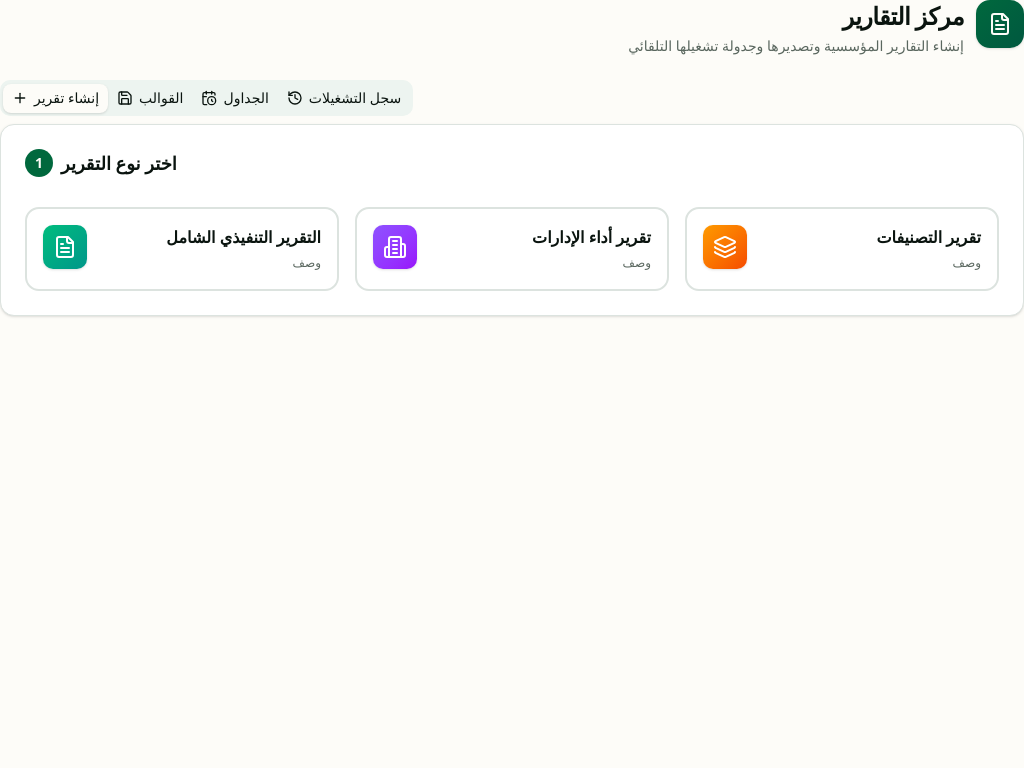
Test: ReportsCenter › uses explicit page metadata, preserves every section, and respects preview order
Click the heading "التقرير التنفيذي الشامل": (244, 237) [166,226,321,248]
(page scrolled)
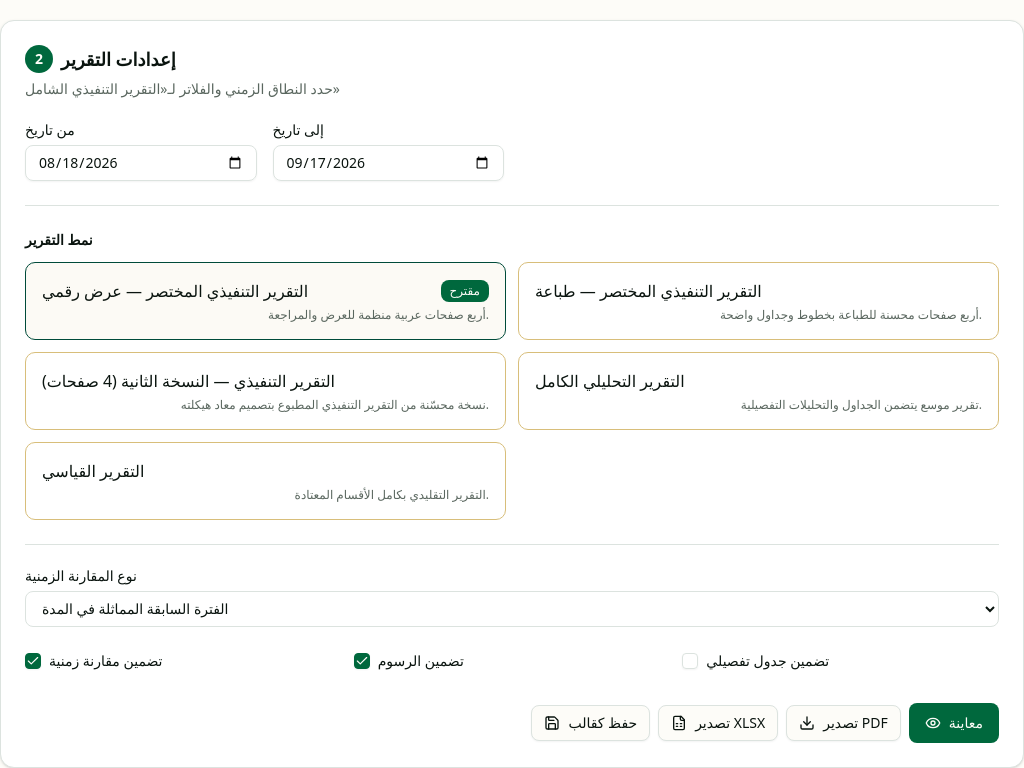
Click the button "معاينة": (954, 722) [909,702,999,742]
(page scrolled)
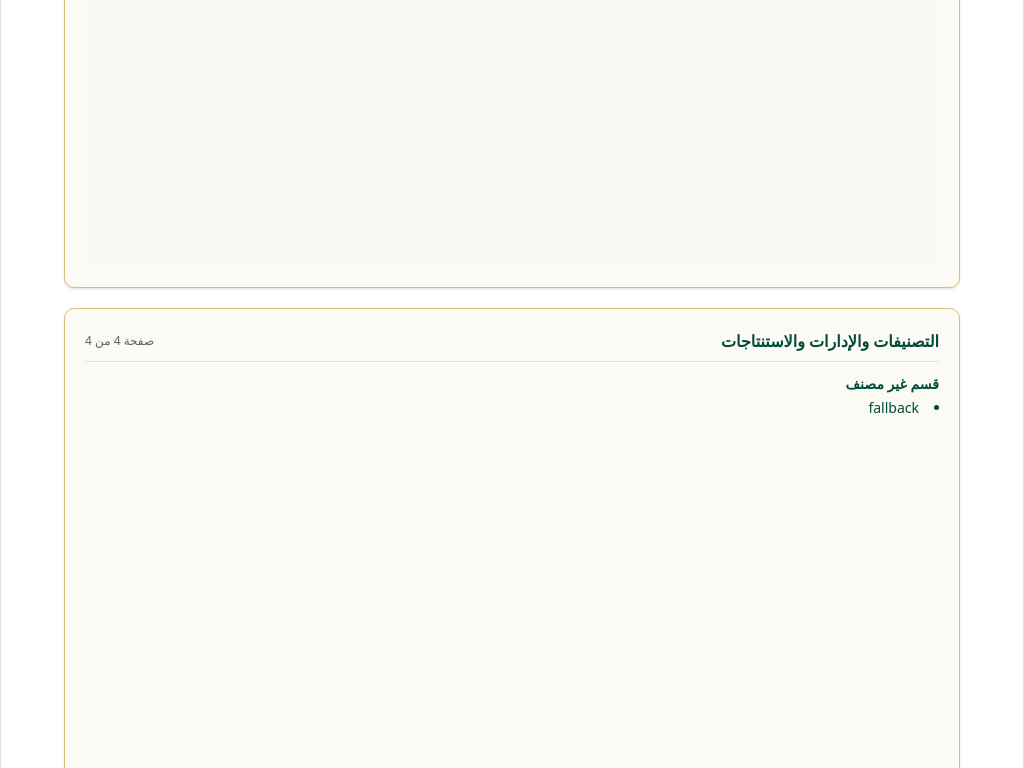
Expected: the heading "قسم غير مصنف" is shown, [846,374,939,394]
